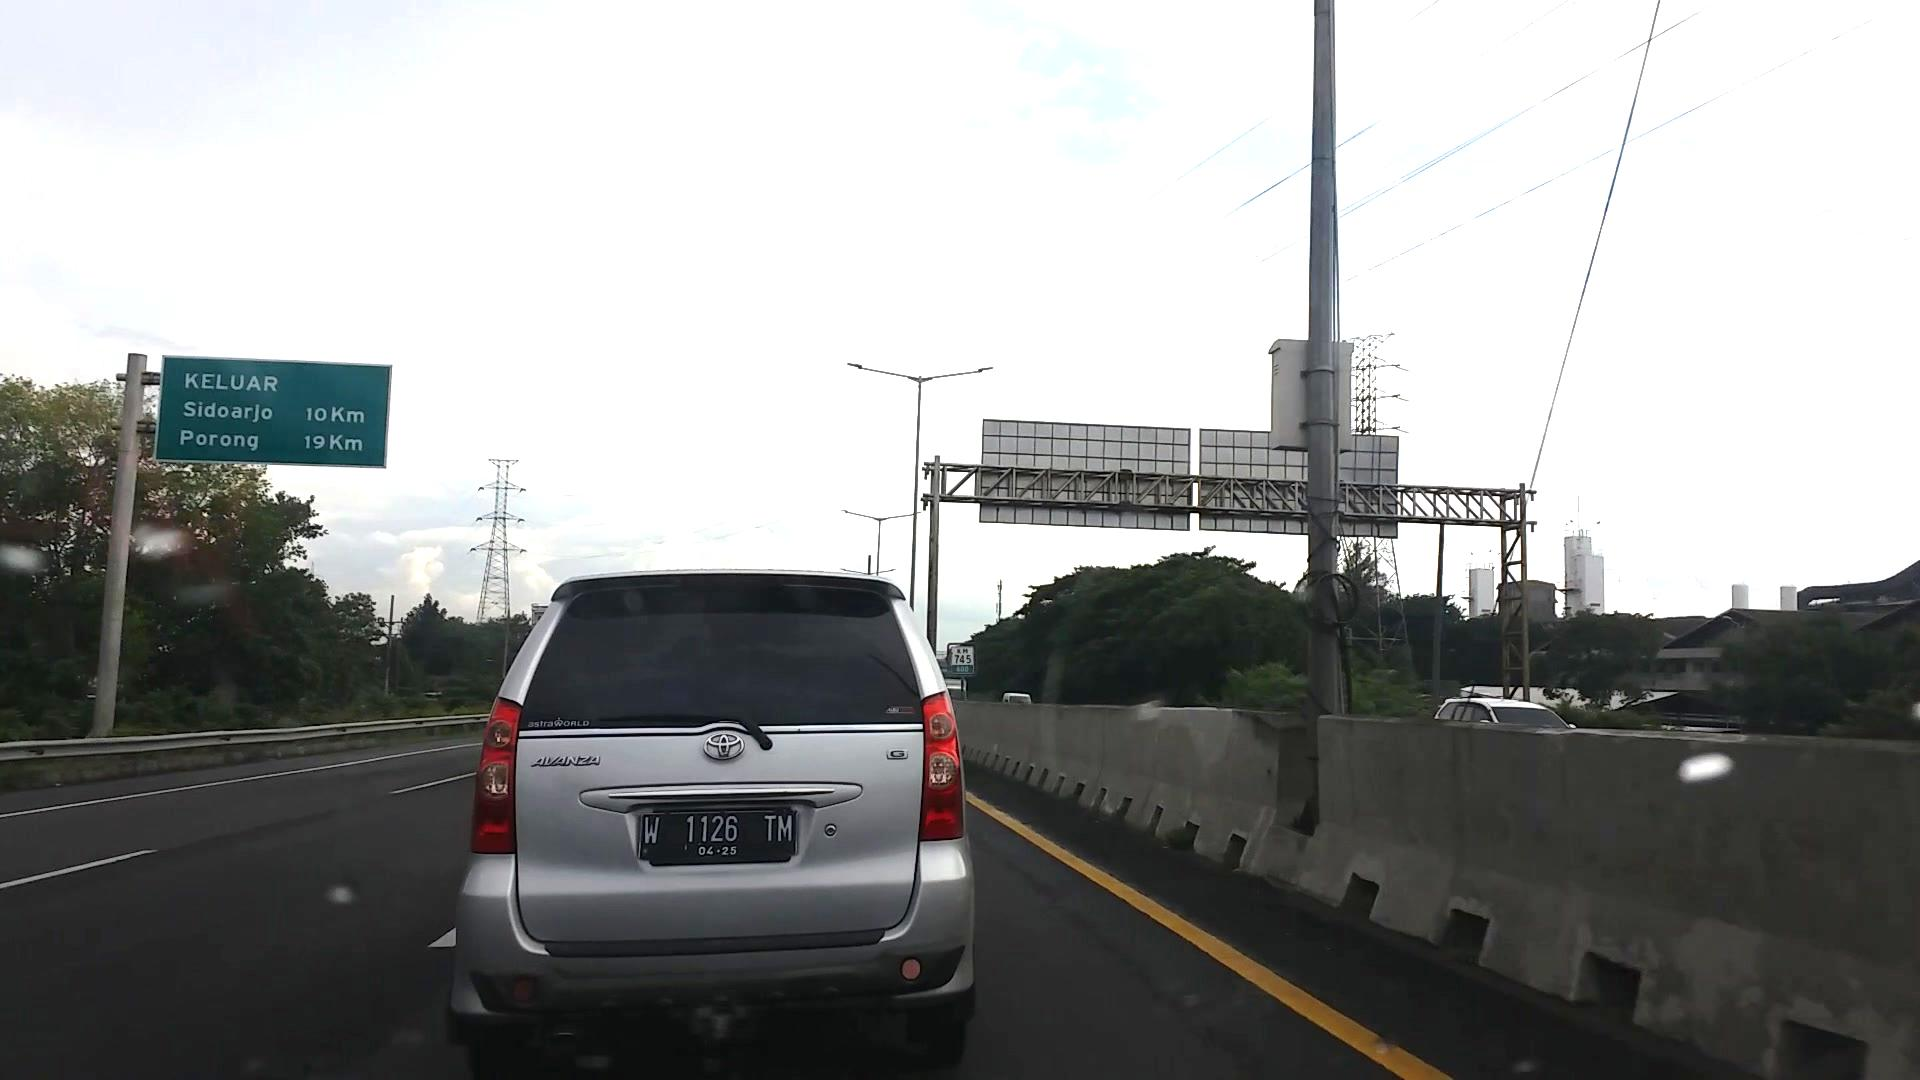plate_positive: (638, 811, 796, 857)
